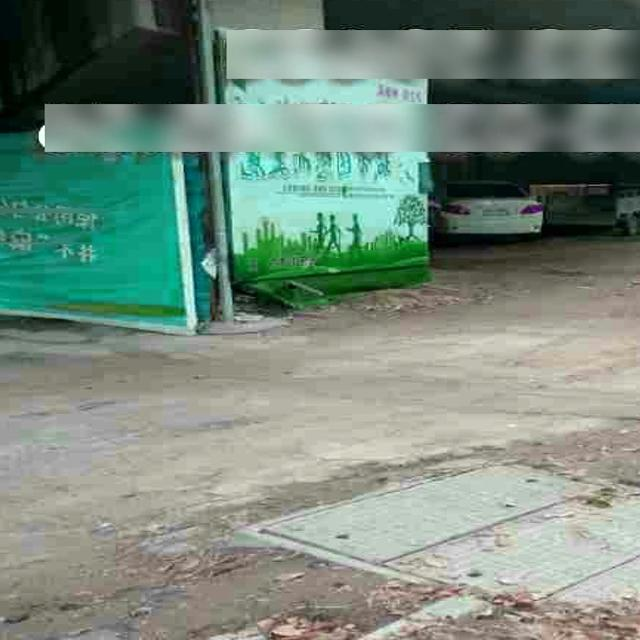good: (236, 461, 640, 610)
